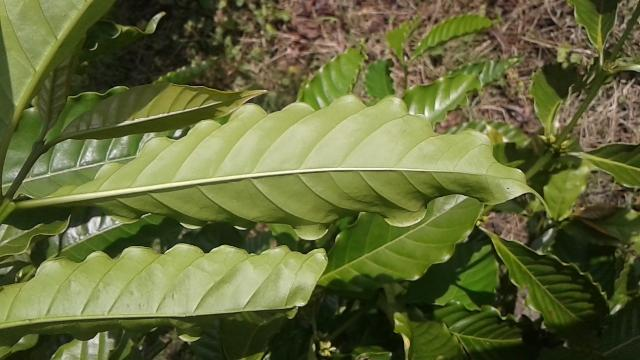healthy: (27, 90, 554, 241)
